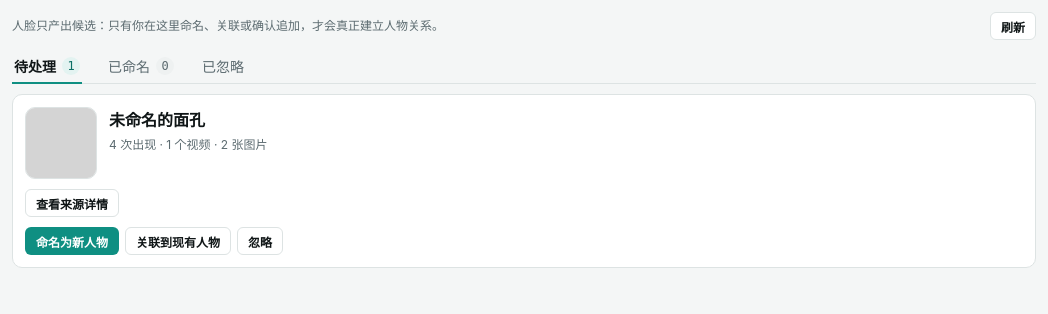
Test: FaceClusterReviewPanel › surfaces the backend message for unmapped failures
This screenshot has width=1048, height=314.
Click the button with test id "face-cluster-ignore-1" at (260, 241), box [237, 227, 283, 255]
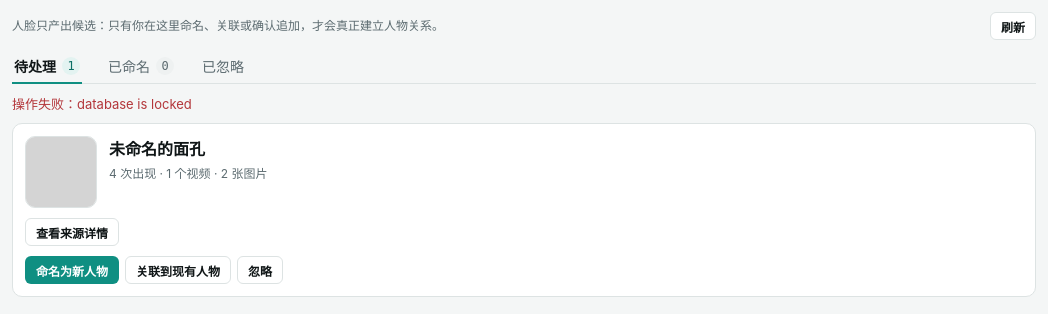
Expected: the element with test id "face-cluster-card-1" is shown, [12, 123, 1036, 297]
Now the message with test id "face-cluster-review-error" shows "database is locked", box [12, 96, 192, 112]
